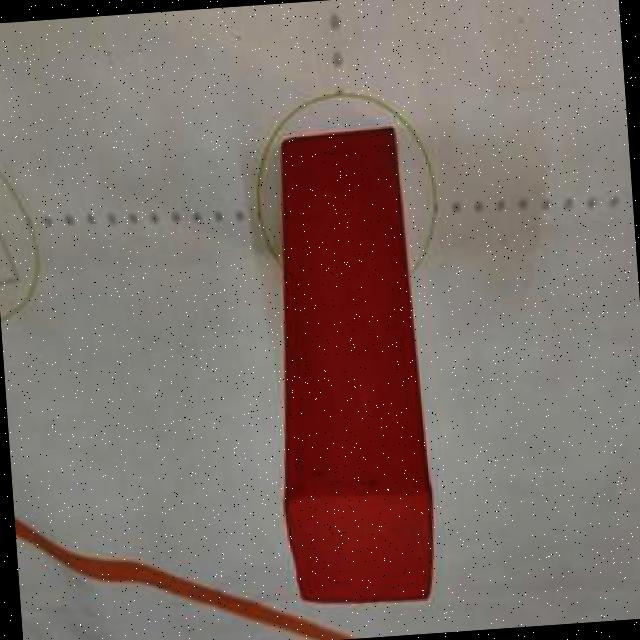redbox: (259, 124, 442, 606)
